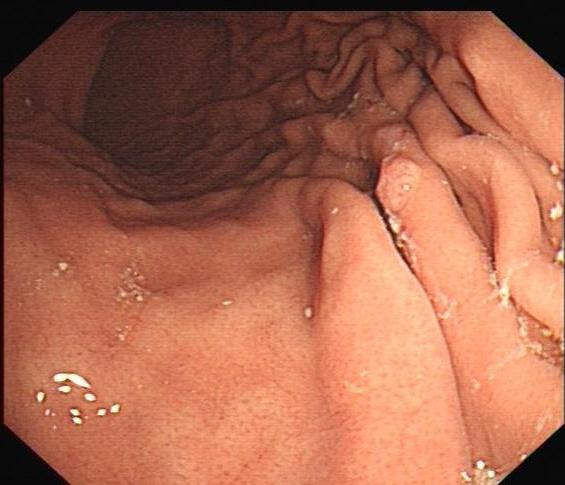Polyp: (371, 151, 425, 219)
